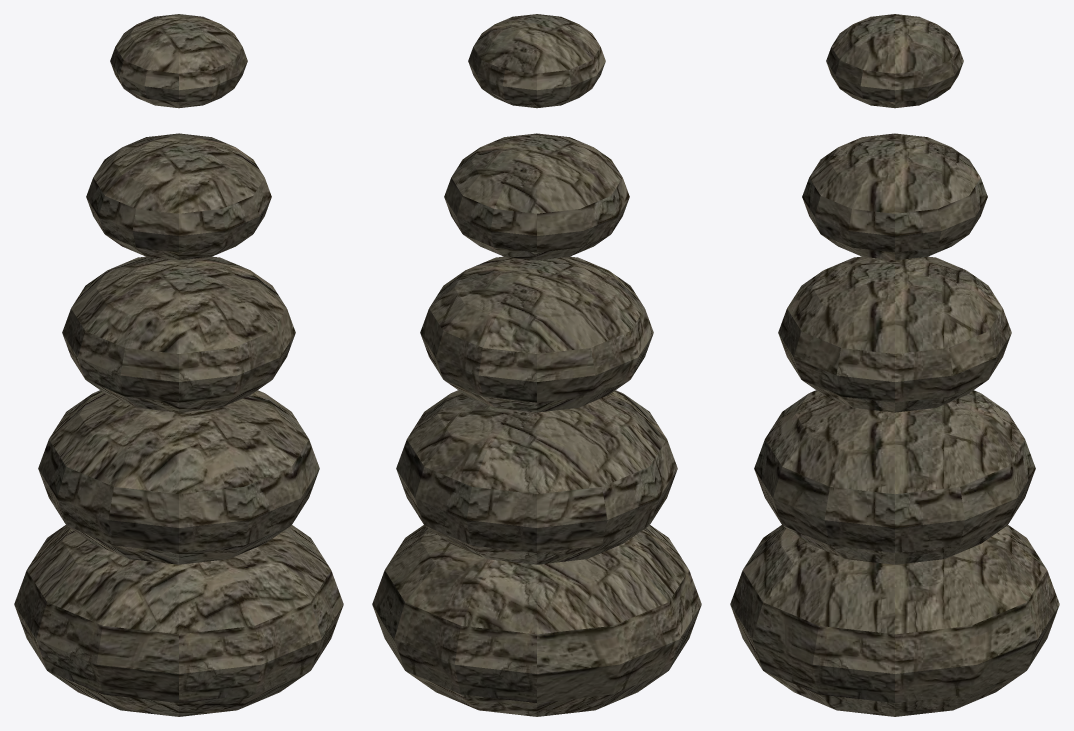
Rendered from cairn_01.glb.
3 views of the same model, side by side, from view 1: azimuth 30°, elevation 25°; view 2: azimuth 150°, elevation 25°; view 3: azimuth 270°, elevation 25° (orthographic).
Parts seen in each view (by area): view 1: cairn_01; view 2: cairn_01; view 3: cairn_01.
Boxes of the visible parts, <box> form: cairn_01: <box>14,14,343,716</box>; cairn_01: <box>372,14,701,716</box>; cairn_01: <box>730,14,1059,716</box>.
Size of the model in its own units: 1.1 by 2.47 by 1.1.
1 material, 1 textured.
